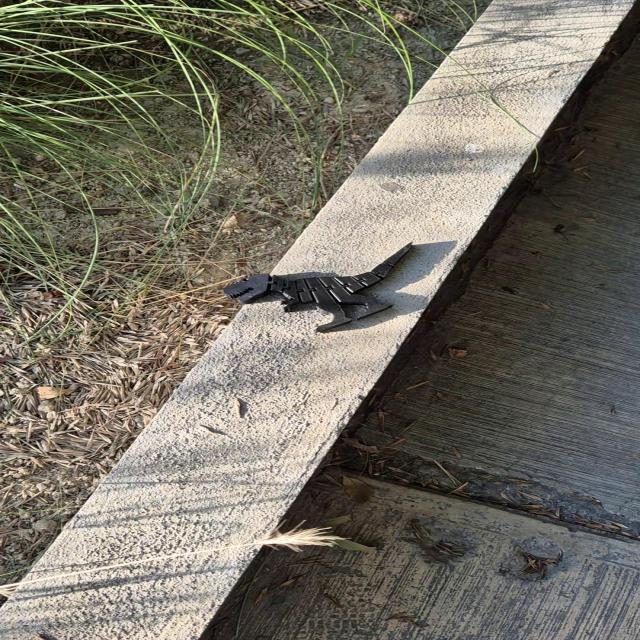dino: (222, 240, 414, 334)
